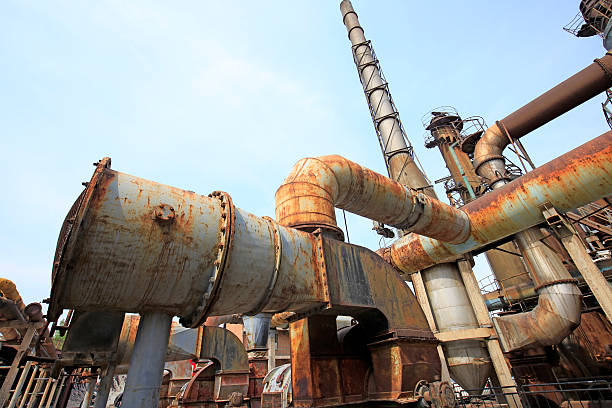rust: (395, 158, 612, 263), (288, 328, 448, 408), (53, 145, 110, 320), (513, 307, 612, 392), (203, 184, 232, 333), (165, 367, 257, 405)
